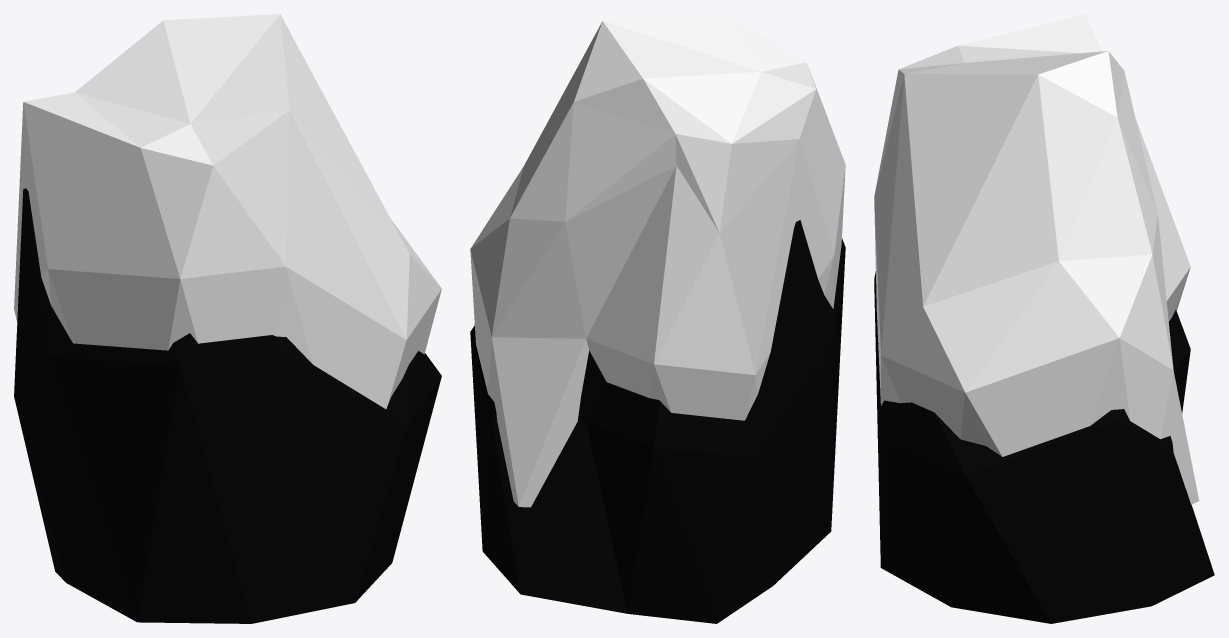
The model's file is Snow_rock_1.fbx.
3 views of the same model, side by side, from view 1: azimuth 30°, elevation 25°; view 2: azimuth 150°, elevation 25°; view 3: azimuth 270°, elevation 25° (orthographic). The views are drawn at different scales.
Parts seen in each view (by area): view 1: Snow_rock_1; view 2: Snow_rock_1; view 3: Snow_rock_1.
Part boxes in pixels (bbox=[...]): Snow_rock_1: bbox=[14, 14, 441, 623]; Snow_rock_1: bbox=[470, 14, 845, 623]; Snow_rock_1: bbox=[874, 14, 1214, 623].
Size of the model in its own units: 0.8953 by 1.31 by 0.7739.
1 material, 1 textured.
